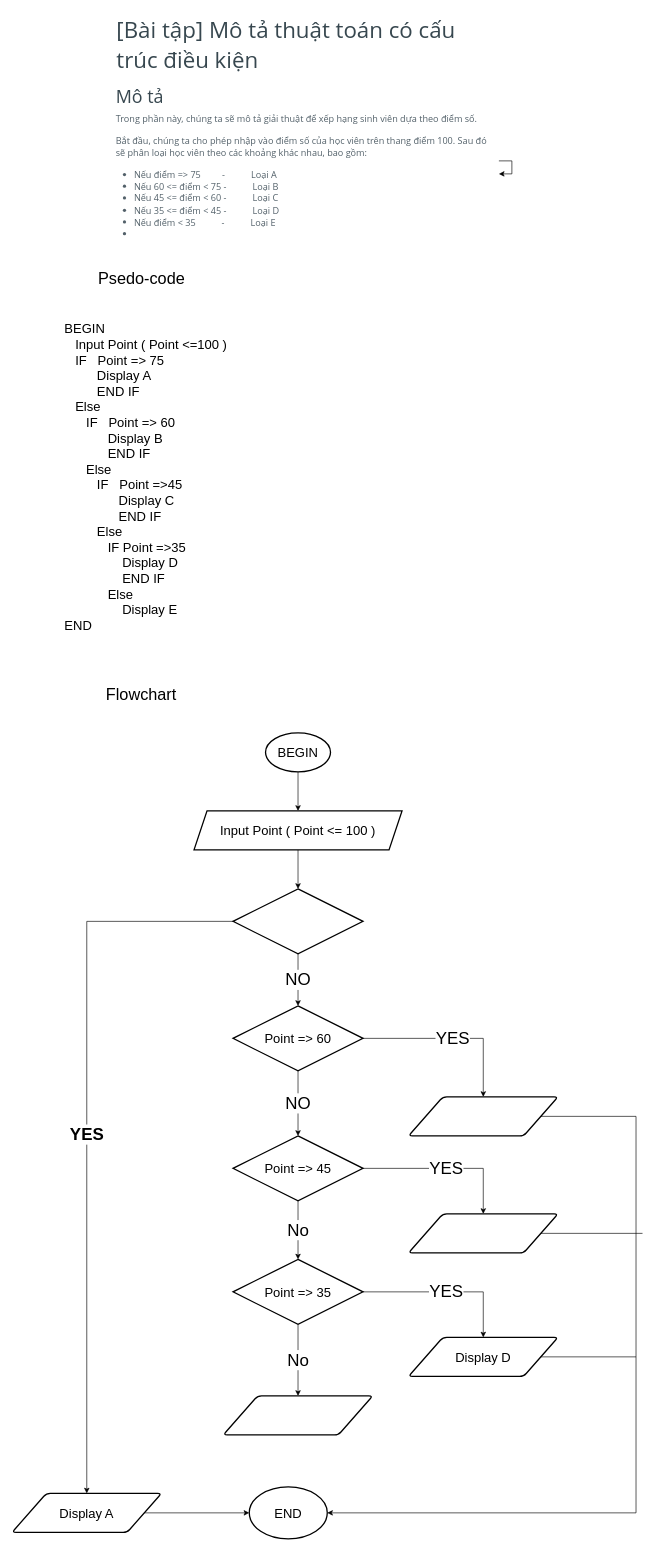
Some shapes in this 655 by 1550 pixel diagram are drawn without their labels. The shapes that lost their labels are listed below. From the top down, each one's centre as x and y in pixels, then its label:
point 297,921: Point > 75
point 483,1116: Display B
point 483,1233: Display C
point 297,1415: Display E
